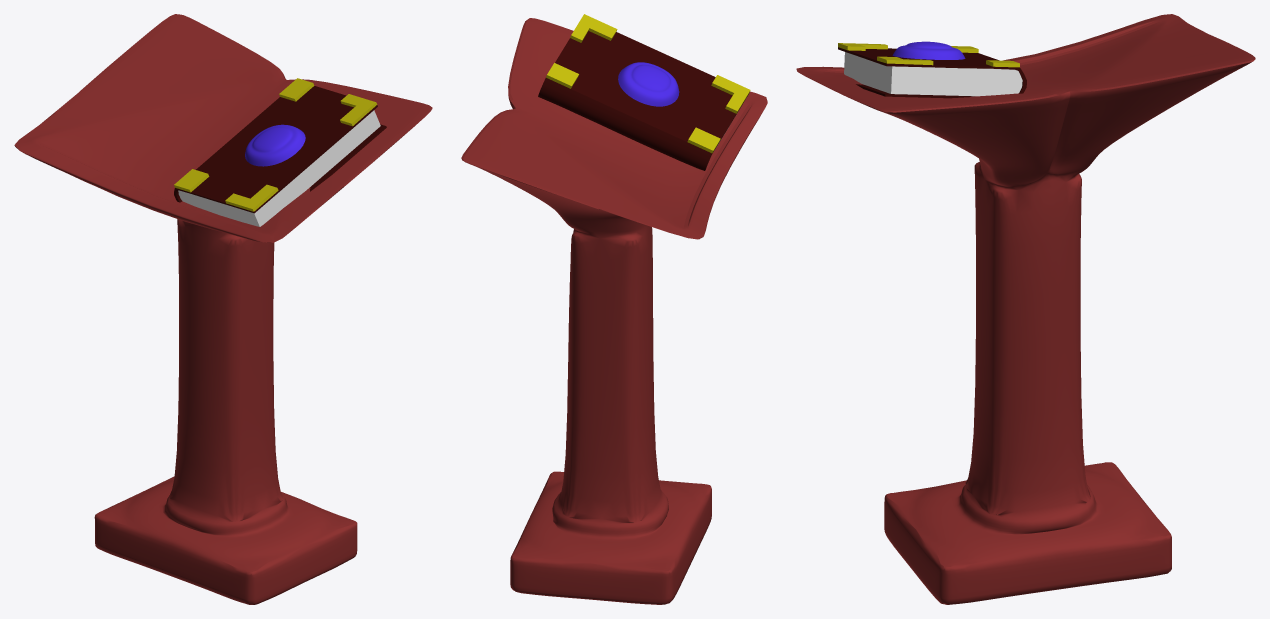
Rendered from Atril+Libro.fbx.
3 views of the same model, side by side, from view 1: azimuth 30°, elevation 25°; view 2: azimuth 150°, elevation 25°; view 3: azimuth 270°, elevation 25° (orthographic). The views are drawn at different scales.
Parts seen in each view (by area): view 1: Cube.012, Cube.005, Cube.009, Cube.015, Cube.008; view 2: Cube.012, Cube.005, Cube.015, Cube.008; view 3: Cube.012, Cube.009, Cube.005, Cube.008, Cube.015.
Part boxes in pixels (x1,y1,x2,y2): Cube.012: (14, 14, 432, 604); Cube.005: (174, 86, 386, 213); Cube.009: (178, 110, 380, 226); Cube.015: (174, 78, 377, 211); Cube.008: (245, 124, 305, 166); Cube.012: (461, 18, 767, 604); Cube.005: (538, 31, 748, 170); Cube.015: (546, 14, 750, 153); Cube.008: (618, 62, 679, 106); Cube.012: (796, 14, 1255, 604); Cube.009: (844, 52, 1022, 96); Cube.005: (838, 47, 1026, 98); Cube.008: (892, 41, 965, 59); Cube.015: (838, 43, 1019, 67).
Size of the model in its own units: 351 by 543 by 414.
